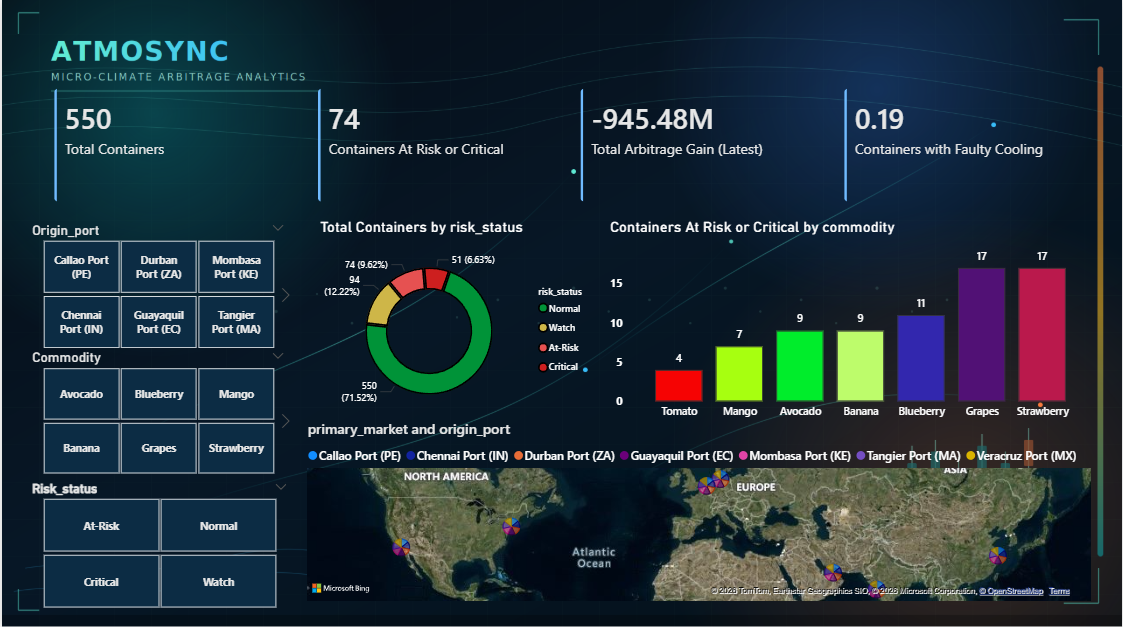

What the dashboard file says about the page in this screenshot:
{"tool":"powerbi","page":{"name":"Executive Overview","canvas":[1280,720],"ordinal":0},"visuals":[{"type":"group","id":"g1","title":"Group 2","box":[25.2,27.4,1229.5,671],"z":0},{"type":"shape","box":[363,249.7,891.1,442.3],"z":0,"group":"g1"},{"type":"slicer","fields":{"Values":["cleaned_dataset.commodity"]},"box":[28.8,389.3,313.7,154],"z":0,"group":"g2"},{"type":"actionButton","box":[1220.2,27.4,34.5,31],"z":1000,"group":"g1"},{"type":"slicer","fields":{"Values":["cleaned_dataset.risk_status"]},"box":[25.2,542.2,316,156.3],"z":1000,"group":"g2"},{"type":"actionButton","box":[1121.1,28.6,98.8,30.2],"z":2000,"group":"g1"},{"type":"slicer","fields":{"Values":["cleaned_dataset.origin_port"]},"box":[26.3,242.3,313.7,155.1],"z":2000,"group":"g2"},{"type":"lineChart","fields":{"Y":["cleaned_dataset.Total Containers"],"Category":["cleaned_dataset.risk_status"]},"box":[351.4,174.5,299.9,71.2],"z":3000,"group":"g1"},{"type":"lineChart","fields":{"Y":["cleaned_dataset.Total Containers"],"Category":["cleaned_dataset.commodity"]},"box":[51.5,171,299.9,78.1],"z":4000,"group":"g1"},{"type":"shape","box":[46.8,86,1207.3,163.7],"z":5000,"group":"g1"},{"type":"cardVisual","fields":{"Data":["cleaned_dataset.Total Arbitrage Gain (Latest)"]},"box":[649.2,86,303.7,163.7],"z":6000,"group":"g1"},{"type":"cardVisual","fields":{"Data":["cleaned_dataset.Total Containers"]},"box":[46.8,86,303.7,163.7],"z":7000,"group":"g1"},{"type":"cardVisual","fields":{"Data":["cleaned_dataset.Containers At Risk or Critical"]},"box":[348,86,303.7,163.7],"z":8000,"group":"g1"},{"type":"cardVisual","fields":{"Data":["cleaned_dataset.% Containers with Faulty Cooling"]},"box":[950.4,86,303.7,163.7],"z":9000,"group":"g1"},{"type":"donutChart","fields":{"Category":["cleaned_dataset.risk_status"],"Y":["cleaned_dataset.Total Containers"]},"box":[363,249.7,331.2,239.9],"z":10000,"group":"g1"},{"type":"lineStackedColumnComboChart","fields":{"Category":["cleaned_dataset.commodity"],"Y":["cleaned_dataset.Containers At Risk or Critical"]},"box":[694.2,249.7,559.9,239.9],"z":11000,"group":"g1"},{"type":"map","fields":{"Series":["cleaned_dataset.origin_port"],"Category":["cleaned_dataset.primary_market","cleaned_dataset.secondary_market"]},"box":[348.2,479.5,906.2,212.6],"z":12000,"group":"g1"},{"type":"shape","box":[31.8,249.7,318.7,442.3],"z":13000,"group":"g1"},{"type":"group","id":"g2","title":"Group 1","box":[25.2,242.3,317.4,456.1],"z":14000,"group":"g1"},{"type":"lineChart","fields":{"Y":["cleaned_dataset.Total Arbitrage Gain (Latest)"],"Category":["cleaned_dataset.risk_status"]},"box":[658.8,174,299.1,78.2],"z":15000,"group":"g1"},{"type":"lineChart","fields":{"Y":["cleaned_dataset.% Containers with Faulty Cooling"],"Category":["cleaned_dataset.commodity"]},"box":[974.3,174,275.8,78.2],"z":16000,"group":"g1"}]}

Visuals, with their boxes in screenshot pixels (x1, y1, x2, y2), scaled from the page's 1280x720 canvas onto the 1123x627 screenshot:
"Group 2" group: [22, 24, 1101, 608]
shape: [318, 217, 1100, 603]
slicer - cleaned_dataset.commodity: [25, 339, 300, 473]
actionButton: [1071, 24, 1101, 51]
slicer - cleaned_dataset.risk_status: [22, 472, 299, 608]
actionButton: [984, 25, 1070, 51]
slicer - cleaned_dataset.origin_port: [23, 211, 298, 346]
lineChart - cleaned_dataset.Total Containers x cleaned_dataset.risk_status: [308, 152, 571, 214]
lineChart - cleaned_dataset.Total Containers x cleaned_dataset.commodity: [45, 149, 308, 217]
shape: [41, 75, 1100, 217]
cardVisual - cleaned_dataset.Total Arbitrage Gain (Latest): [570, 75, 836, 217]
cardVisual - cleaned_dataset.Total Containers: [41, 75, 308, 217]
cardVisual - cleaned_dataset.Containers At Risk or Critical: [305, 75, 572, 217]
cardVisual - cleaned_dataset.% Containers with Faulty Cooling: [834, 75, 1100, 217]
donutChart - cleaned_dataset.risk_status x cleaned_dataset.Total Containers: [318, 217, 609, 426]
lineStackedColumnComboChart - cleaned_dataset.commodity x cleaned_dataset.Containers At Risk or Critical: [609, 217, 1100, 426]
map - cleaned_dataset.origin_port x cleaned_dataset.primary_market: [305, 418, 1101, 603]
shape: [28, 217, 308, 603]
"Group 1" group: [22, 211, 301, 608]
lineChart - cleaned_dataset.Total Arbitrage Gain (Latest) x cleaned_dataset.risk_status: [578, 152, 840, 220]
lineChart - cleaned_dataset.% Containers with Faulty Cooling x cleaned_dataset.commodity: [855, 152, 1097, 220]
